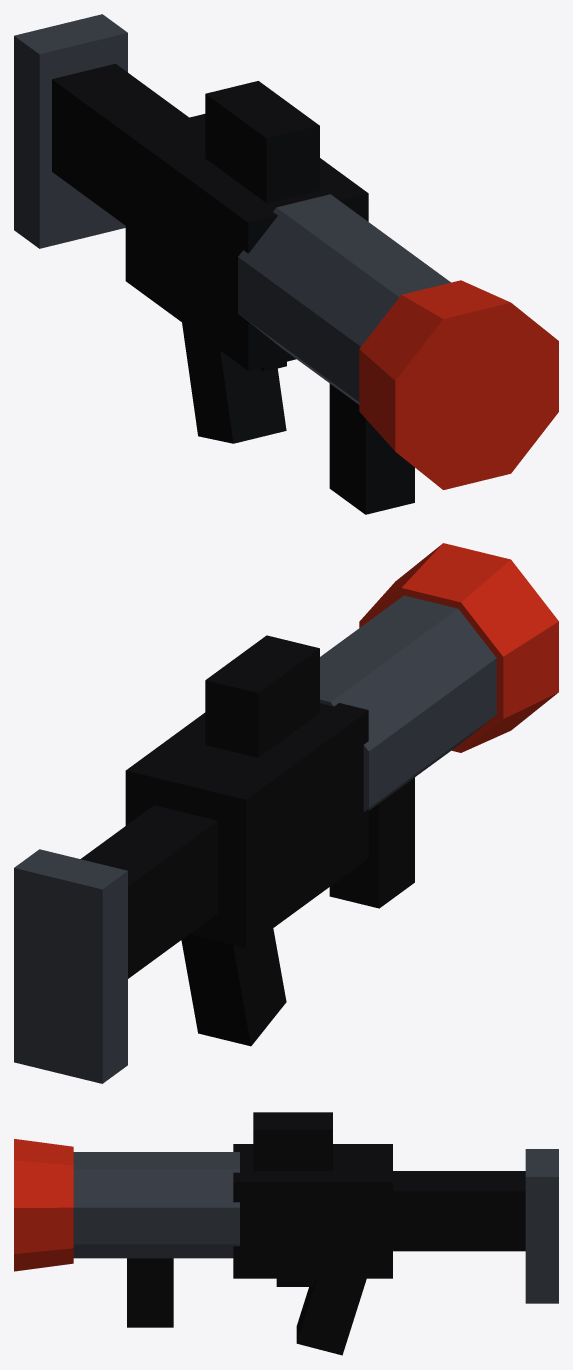
Rendered from lbd-launcher.glb.
3 renders of one model, top to bottom at view 1: azimuth 30°, elevation 25°; view 2: azimuth 150°, elevation 25°; view 3: azimuth 270°, elevation 25°, orthographic. The views are drawn at different scales.
Parts seen in each view (by area): view 1: lbd-launcher; view 2: lbd-launcher; view 3: lbd-launcher.
Boxes of the visible parts, x1,y1,x2,y2 form: lbd-launcher: (14,14,558,514); lbd-launcher: (14,543,558,1083); lbd-launcher: (14,1112,558,1355).
Size of the model in its own units: 0.1848 by 0.3757 by 0.82.
Materials: 1 (1 with a texture image).
